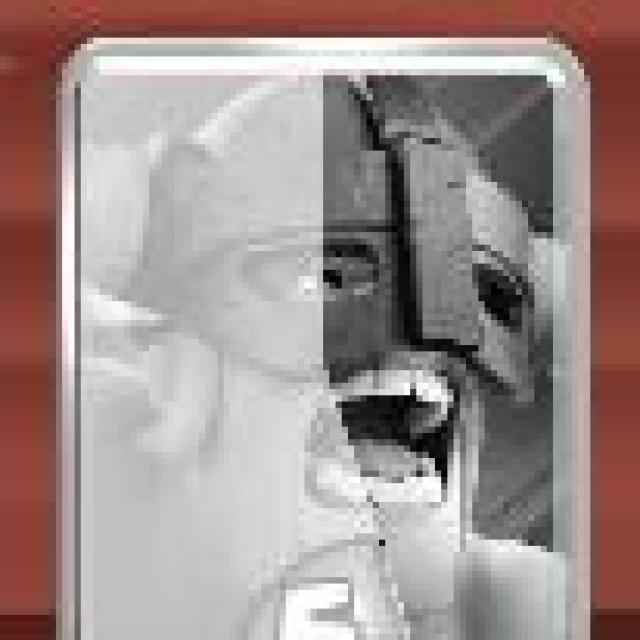Elite_Barbarians: (52, 35, 587, 640)
